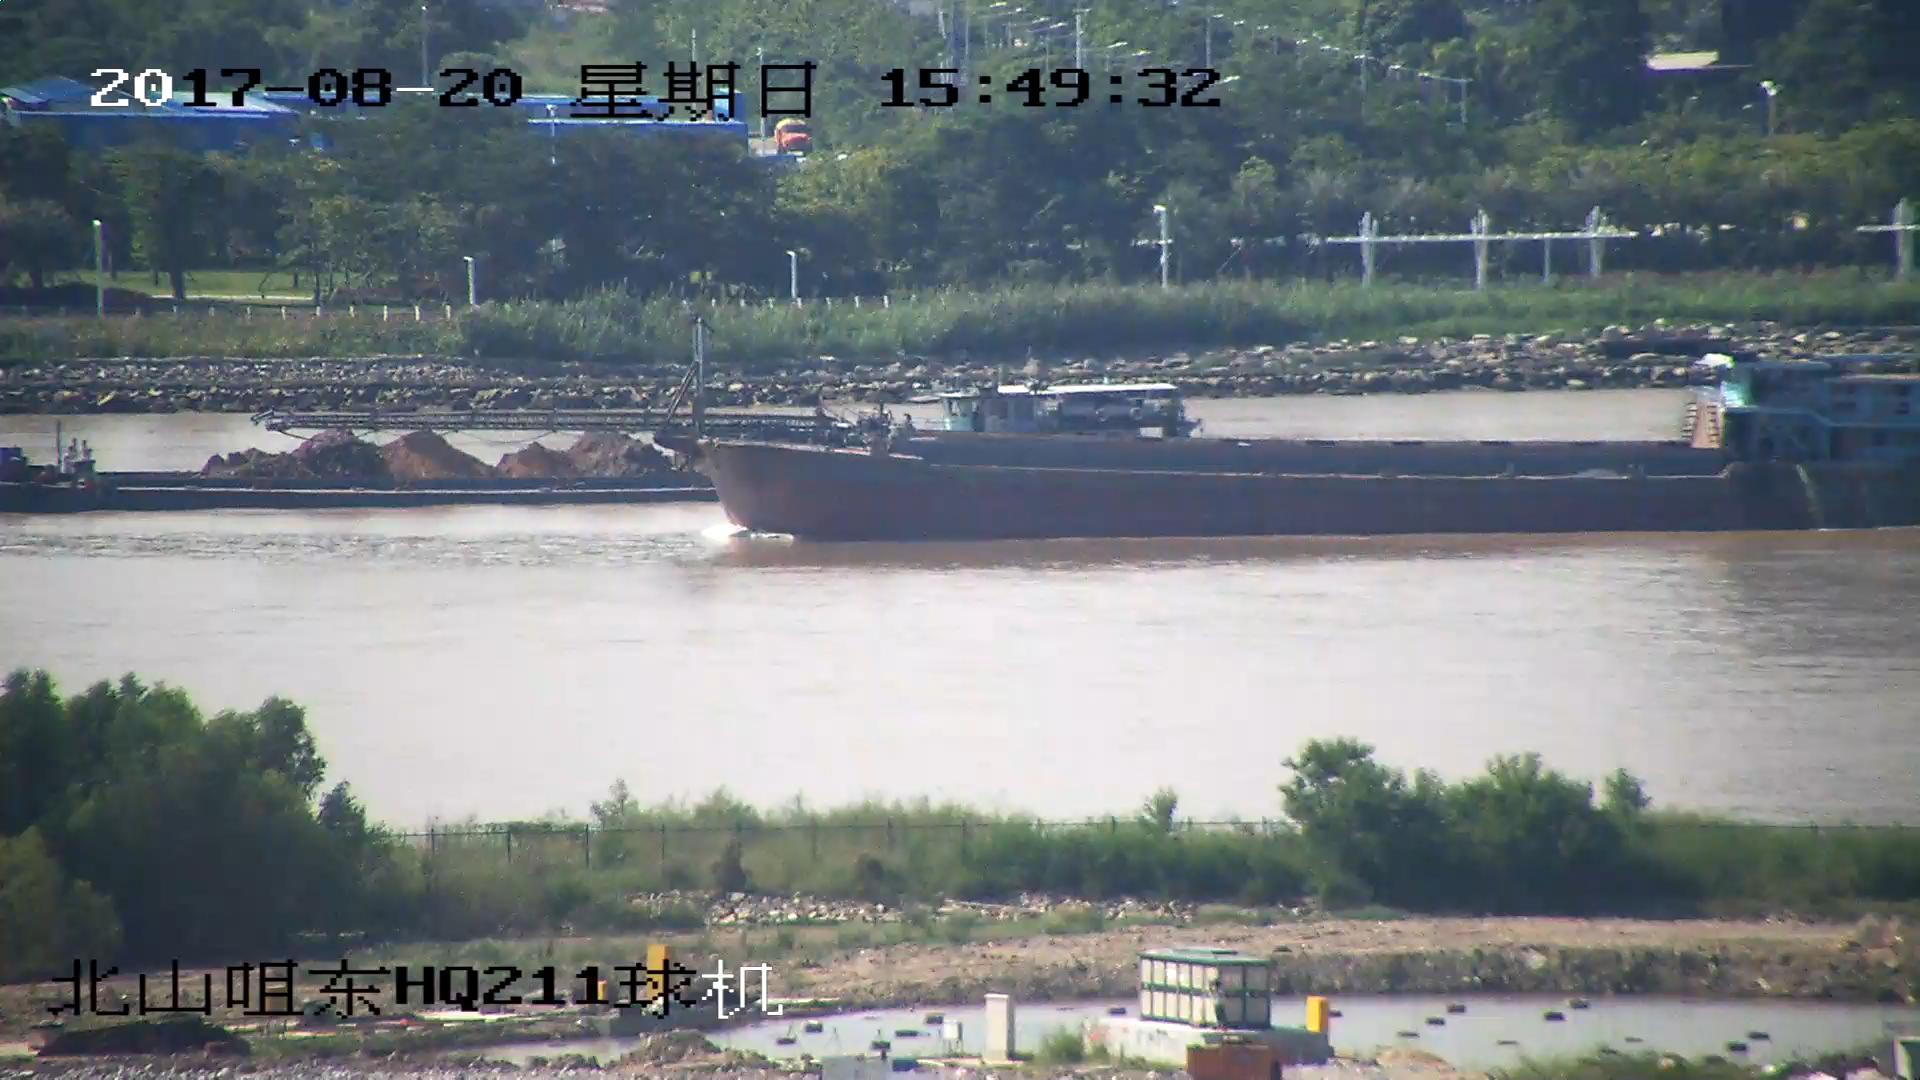Ship: (287, 326, 1920, 545), (3, 372, 1189, 517)
